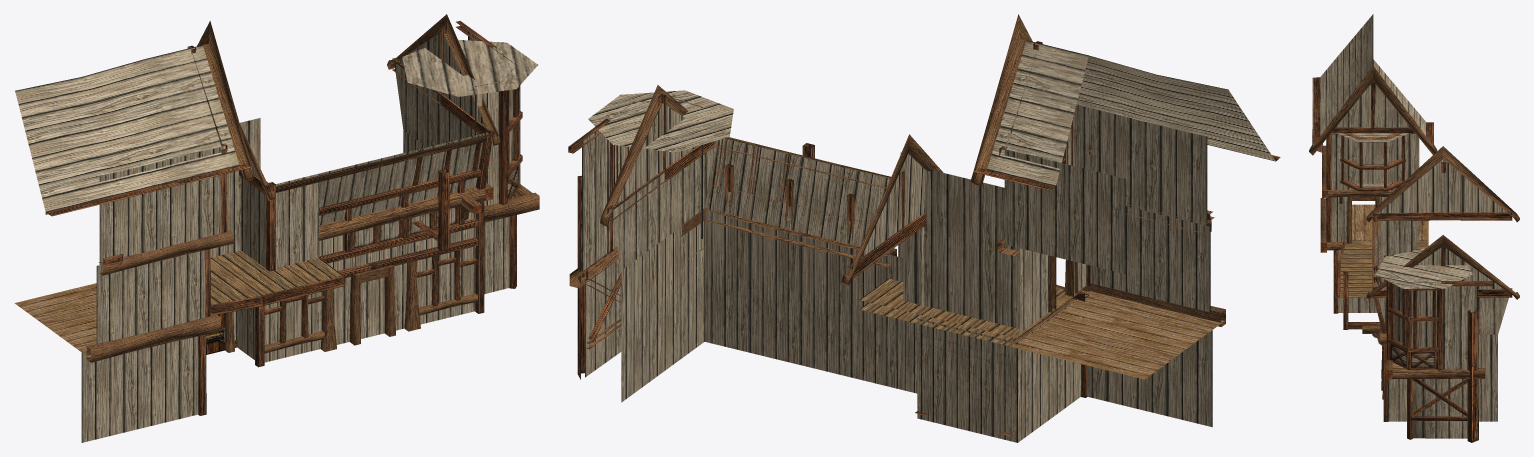
The model's file is LAKETOWN_EXTERIOR_PS_LT_BACKHOUSE84746__GX.fbx.
3 renders of one model, left to right at view 1: azimuth 30°, elevation 25°; view 2: azimuth 150°, elevation 25°; view 3: azimuth 270°, elevation 25°, orthographic. The views are drawn at different scales.
Visible parts, largest first — view 1: LAKETOWN_EXTERIOR_PS_LT_BACKHOUSE84746__GX; view 2: LAKETOWN_EXTERIOR_PS_LT_BACKHOUSE84746__GX; view 3: LAKETOWN_EXTERIOR_PS_LT_BACKHOUSE84746__GX.
Part boxes in pixels (x1,y1,x2,y2): LAKETOWN_EXTERIOR_PS_LT_BACKHOUSE84746__GX: (14, 14, 539, 442); LAKETOWN_EXTERIOR_PS_LT_BACKHOUSE84746__GX: (568, 14, 1280, 442); LAKETOWN_EXTERIOR_PS_LT_BACKHOUSE84746__GX: (1309, 14, 1519, 442).
Bounding box in the file's own units: 220759 × 140379 × 103161.
Materials: 11 (11 with a texture image).
